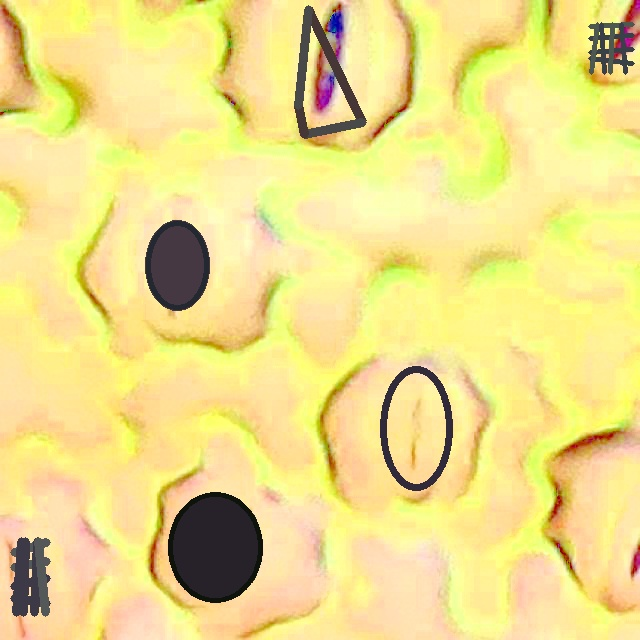close: (168, 492, 262, 602), (379, 365, 454, 491), (145, 220, 208, 310), (10, 537, 50, 616)
open: (294, 5, 366, 138), (588, 22, 634, 74)
